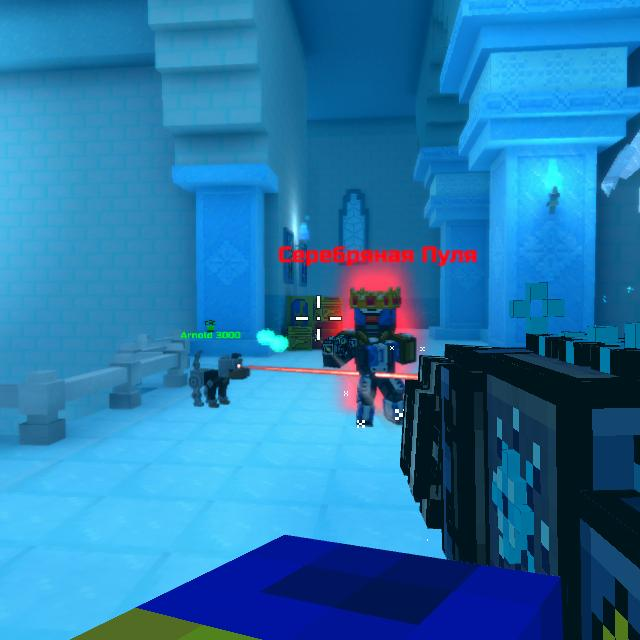Enemy: (323, 291, 417, 427)
